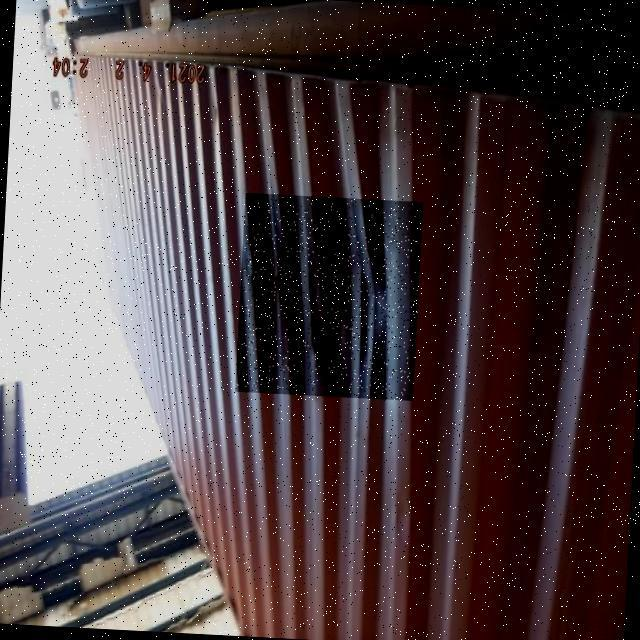Dent: (235, 193, 423, 401)
